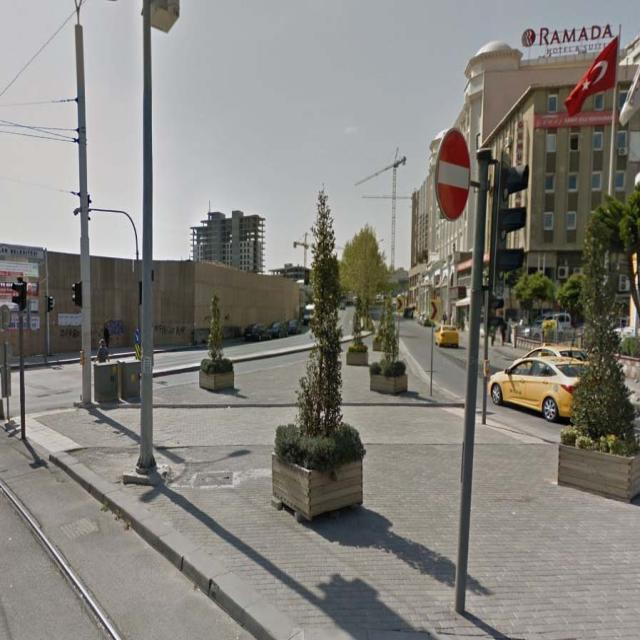girisyok: (435, 128, 471, 223)
